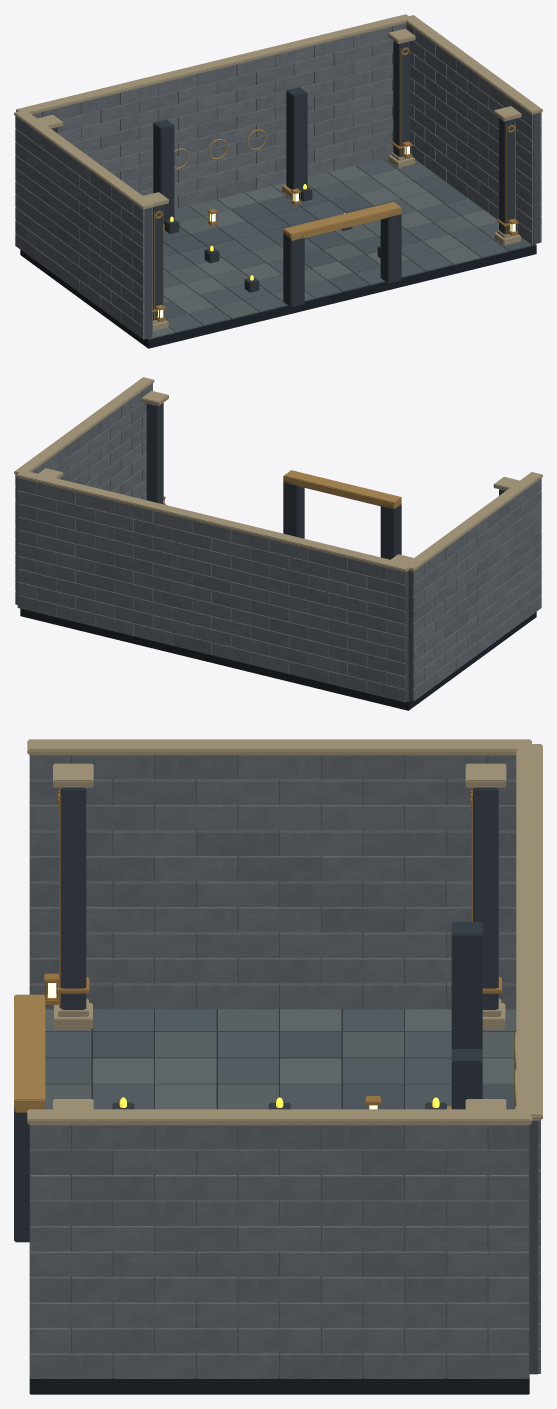
The model's file is sanctum-static-v03.glb.
The picture shows the model from 3 angles, top to bottom: view 1: azimuth 30°, elevation 25°; view 2: azimuth 150°, elevation 25°; view 3: azimuth 270°, elevation 25°; orthographic projection. The views are drawn at different scales.
Visible parts, largest first — view 1: sanctum-static-v03 Fire coursed basalt, sanctum-static-v03 Floor stone 0, sanctum-static-v03 Ash stone • warm trim, sanctum-static-v03 Floor stone 2, sanctum-static-v03 Guardian charcoal robe, sanctum-static-v03 Floor stone 3, sanctum-static-v03 Floor stone 1, sanctum-static-v03 Basalt • charcoal, sanctum-static-v03 Recesses and grout, sanctum-static-v03 Guardian aged bronze, sanctum-static-v03 Fire recessed mortar, sanctum-static-v03 Bronze • forged warm; view 2: sanctum-static-v03 Fire coursed basalt, sanctum-static-v03 Ash stone • warm trim, sanctum-static-v03 Recesses and grout, sanctum-static-v03 Guardian charcoal robe, sanctum-static-v03 Basalt • charcoal, sanctum-static-v03 Guardian aged bronze, sanctum-static-v03 Fire recessed mortar; view 3: sanctum-static-v03 Fire coursed basalt, sanctum-static-v03 Ash stone • warm trim, sanctum-static-v03 Floor stone 0, sanctum-static-v03 Basalt • charcoal, sanctum-static-v03 Floor stone 2, sanctum-static-v03 Recesses and grout, sanctum-static-v03 Floor stone 1, sanctum-static-v03 Guardian charcoal robe, sanctum-static-v03 Fire recessed mortar, sanctum-static-v03 Floor stone 3, sanctum-static-v03 Guardian aged bronze, sanctum-static-v03 Bronze • forged warm.
Part boxes in pixels (x1,y1,x2,y2): sanctum-static-v03 Fire coursed basalt: (15,23,541,339); sanctum-static-v03 Floor stone 0: (163,157,508,332); sanctum-static-v03 Ash stone • warm trim: (14,14,542,330); sanctum-static-v03 Floor stone 2: (147,165,498,339); sanctum-static-v03 Guardian charcoal robe: (153,87,401,307); sanctum-static-v03 Floor stone 3: (163,175,536,318); sanctum-static-v03 Floor stone 1: (163,172,476,319); sanctum-static-v03 Basalt • charcoal: (51,41,515,320); sanctum-static-v03 Recesses and grout: (20,245,536,348); sanctum-static-v03 Guardian aged bronze: (163,129,401,240); sanctum-static-v03 Fire recessed mortar: (61,53,540,338); sanctum-static-v03 Bronze • forged warm: (57,45,518,321); sanctum-static-v03 Fire coursed basalt: (15,383,541,702); sanctum-static-v03 Ash stone • warm trim: (14,377,542,572); sanctum-static-v03 Recesses and grout: (20,608,536,710); sanctum-static-v03 Guardian charcoal robe: (283,480,401,559); sanctum-static-v03 Basalt • charcoal: (146,403,505,504); sanctum-static-v03 Guardian aged bronze: (283,470,401,509); sanctum-static-v03 Fire recessed mortar: (16,477,412,701); sanctum-static-v03 Fire coursed basalt: (30,755,540,1378); sanctum-static-v03 Ash stone • warm trim: (27,739,542,1124); sanctum-static-v03 Floor stone 0: (45,1008,451,1109); sanctum-static-v03 Basalt • charcoal: (60,787,498,1009); sanctum-static-v03 Floor stone 2: (45,1008,514,1109); sanctum-static-v03 Recesses and grout: (29,1008,529,1394); sanctum-static-v03 Floor stone 1: (45,1009,516,1109); sanctum-static-v03 Guardian charcoal robe: (14,922,482,1242); sanctum-static-v03 Fire recessed mortar: (29,755,538,1378); sanctum-static-v03 Floor stone 3: (92,1032,514,1109); sanctum-static-v03 Guardian aged bronze: (14,994,516,1112); sanctum-static-v03 Bronze • forged warm: (44,787,501,1109).
Bounding box in the file's own units: 28.85 × 9.91 × 16.92.
Materials: 14 (1 with a texture image).
